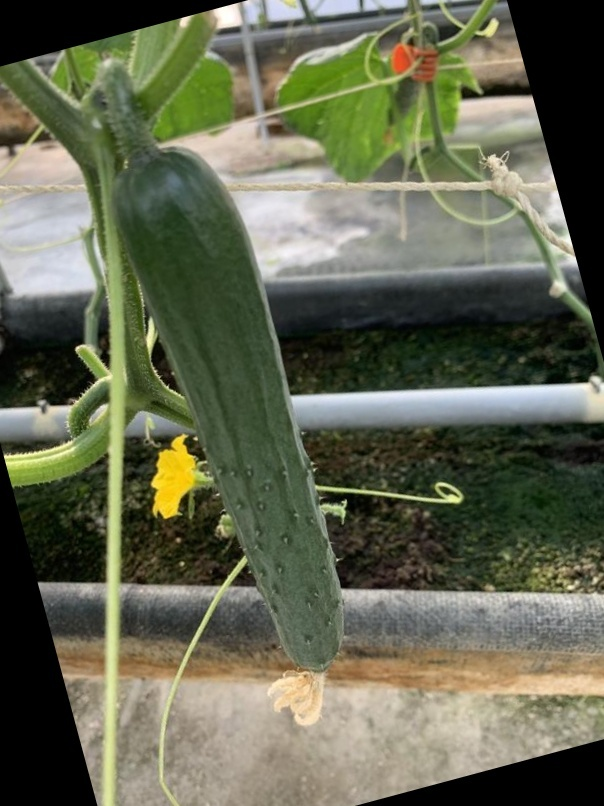mature: (120, 158, 352, 681)
